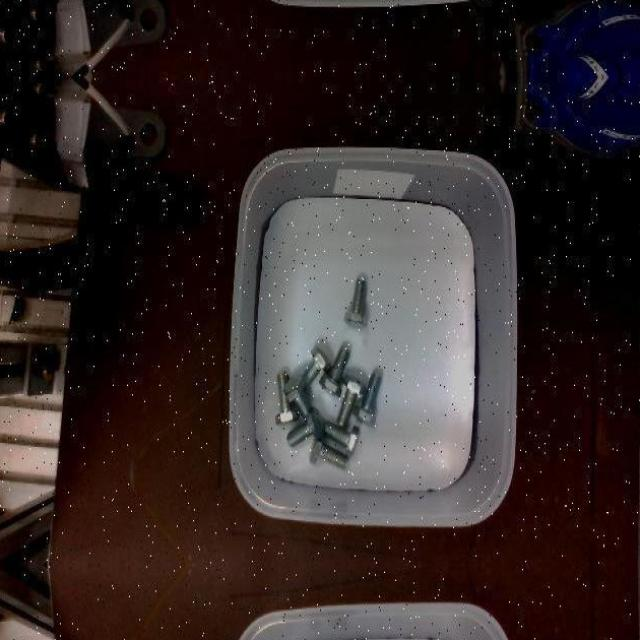screw: (351, 372, 382, 424), (287, 404, 325, 446), (336, 374, 366, 427), (319, 346, 350, 397), (342, 277, 367, 328)
